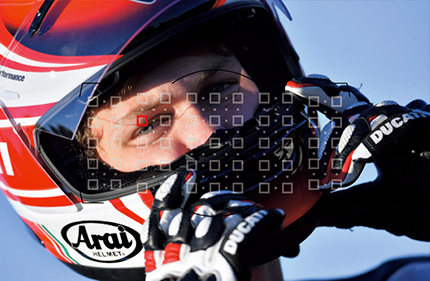face_mask: (86, 46, 293, 221)
